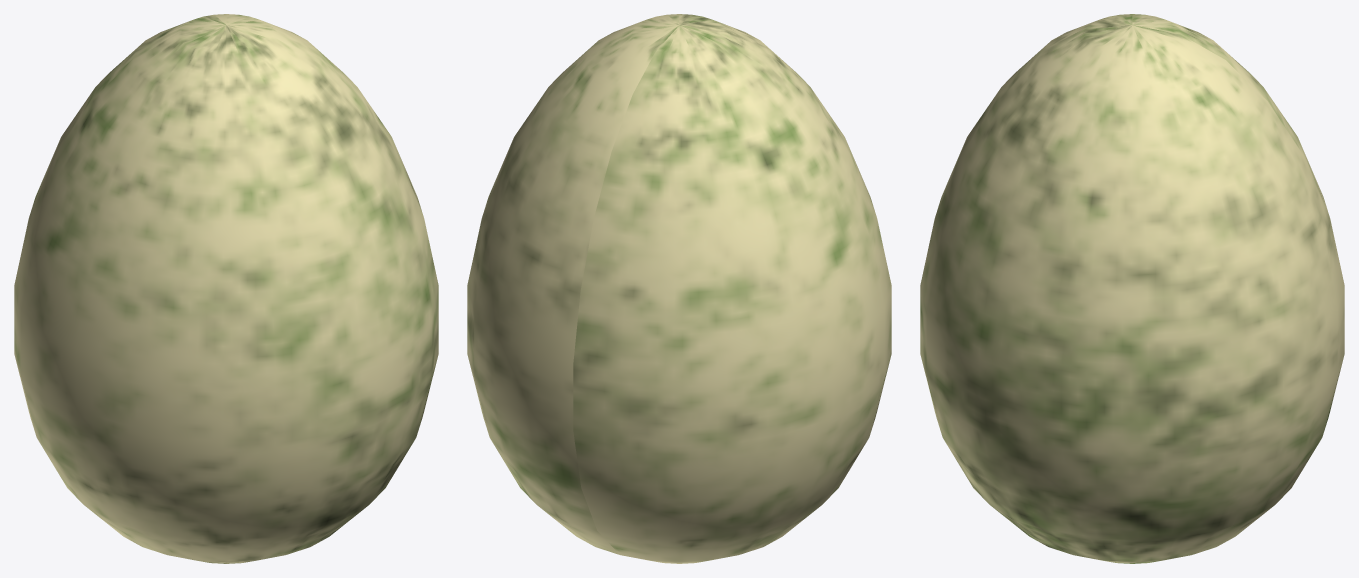
File: OeufPourris_Munition.obj
3 views of the same model, side by side, from view 1: azimuth 30°, elevation 25°; view 2: azimuth 150°, elevation 25°; view 3: azimuth 270°, elevation 25° (orthographic).
Visible parts, largest first — view 1: projectile_OeufPourrie; view 2: projectile_OeufPourrie; view 3: projectile_OeufPourrie.
Part boxes in pixels (x1,y1,x2,y2): projectile_OeufPourrie: (14, 14, 438, 563); projectile_OeufPourrie: (467, 14, 891, 563); projectile_OeufPourrie: (920, 14, 1344, 563).
Size of the model in its own units: 19.32 by 26.17 by 19.32.
Materials: 1 (1 with a texture image).
